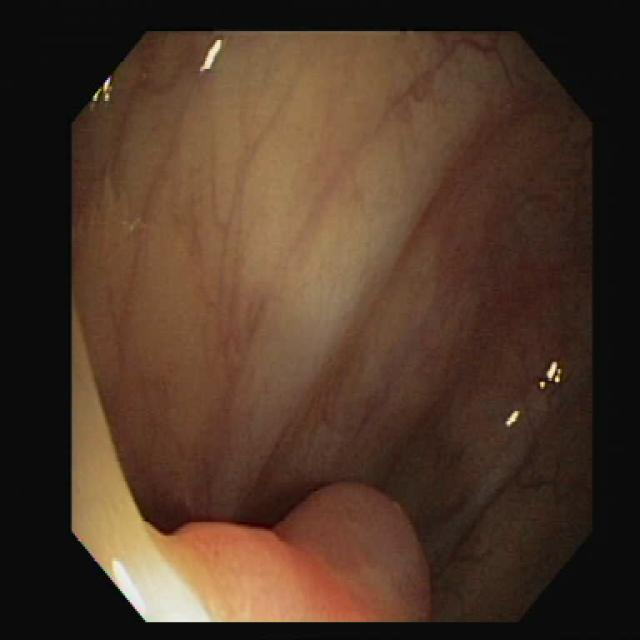tumor: (158, 487, 430, 620)
